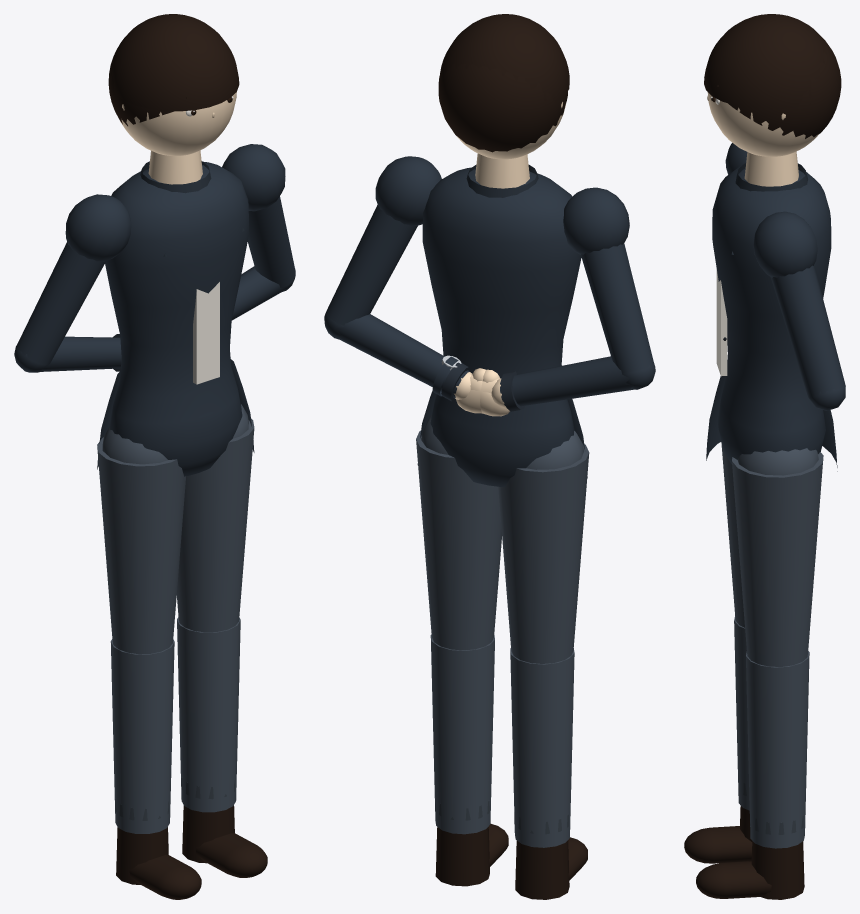
File: 02-kevin.glb
The picture shows the model from 3 angles, left to right: view 1: azimuth 30°, elevation 25°; view 2: azimuth 150°, elevation 25°; view 3: azimuth 270°, elevation 25°; orthographic projection. The views are drawn at different scales.
Visible parts, largest first — view 1: Kevin, skull, armR, armL, elbow (×2); view 2: Kevin, skull, elbow (×2), armR, armL; view 3: Kevin, skull, armL, elbow, armR.
Boxes of the visible parts, box(x1,y1,x2,y2) form: Kevin: box(97, 150, 267, 899); skull: box(108, 14, 239, 155); armR: box(16, 194, 131, 364); armL: box(222, 144, 295, 287); elbow (×2): box(14, 266, 295, 372); Kevin: box(416, 153, 589, 899); skull: box(438, 14, 569, 159); elbow (×2): box(324, 311, 655, 416); armR: box(563, 187, 654, 374); armL: box(326, 156, 441, 326); Kevin: box(684, 151, 837, 899); skull: box(704, 14, 841, 156); armL: box(753, 211, 845, 396); elbow: box(808, 385, 845, 410); armR: box(725, 143, 747, 174).
Size of the model in its own units: 0.6397 by 1.74 by 0.2982.
